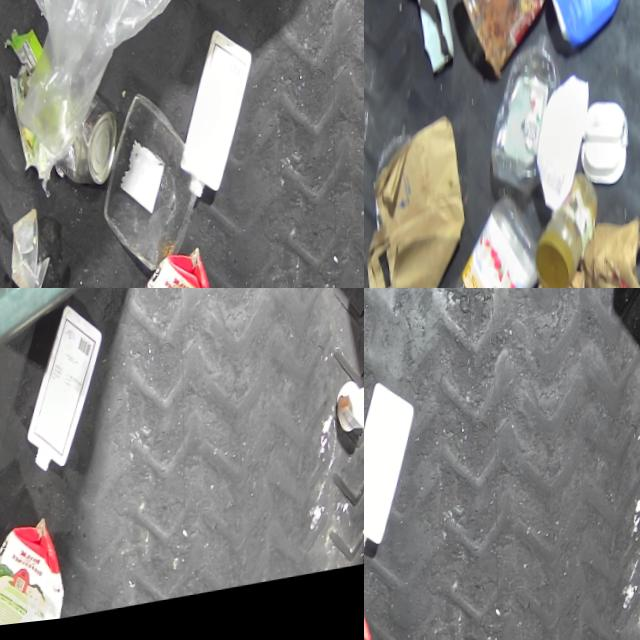can: (54, 94, 124, 194)
milk_jug: (170, 29, 266, 212), (364, 381, 426, 563)
non_white_jug: (0, 517, 72, 635), (539, 0, 640, 57), (117, 243, 223, 288)
plastic_bottle: (422, 190, 553, 288)
